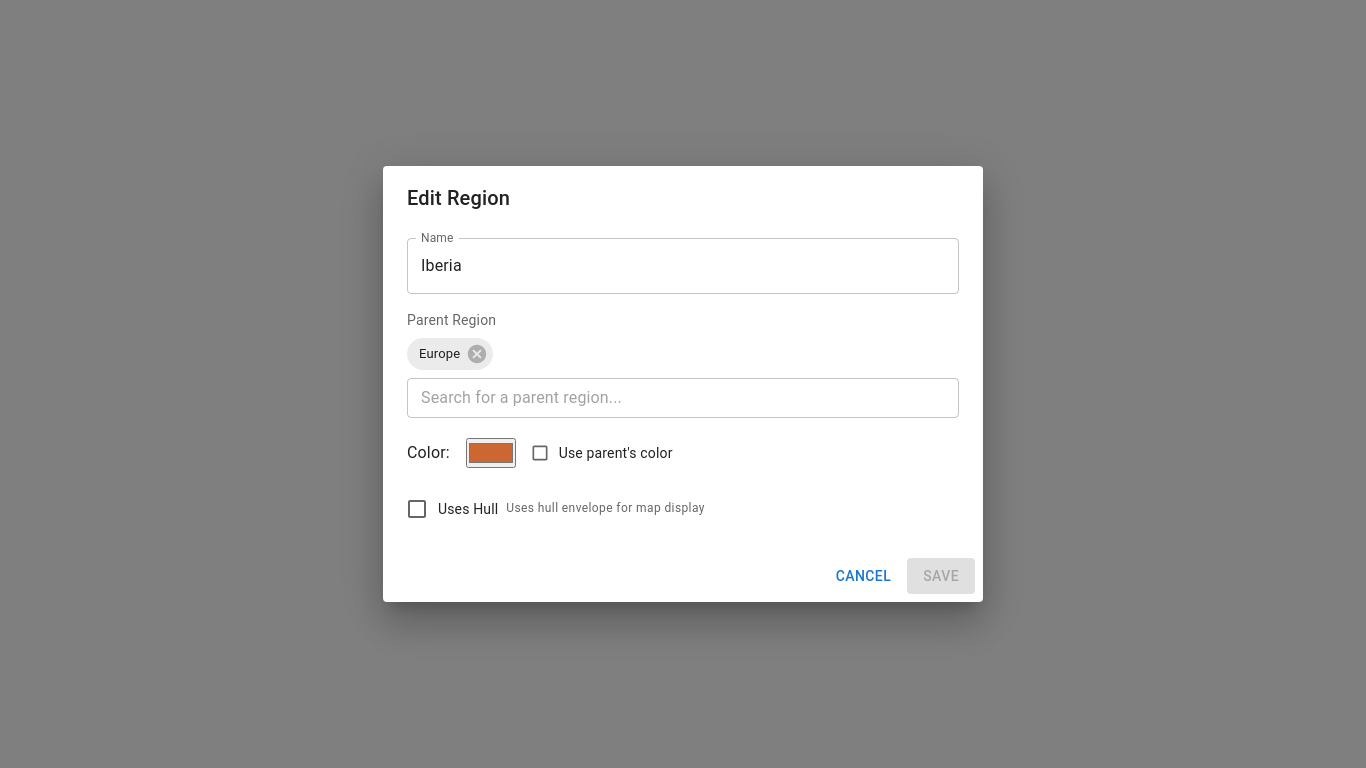
the edit region dialog › shows a refusal that names no field as the form error
Replace the text in the field labelled "Name" with "Iberian Peninsula" at (683, 266), box x1=407 y1=238 x2=959 y2=294
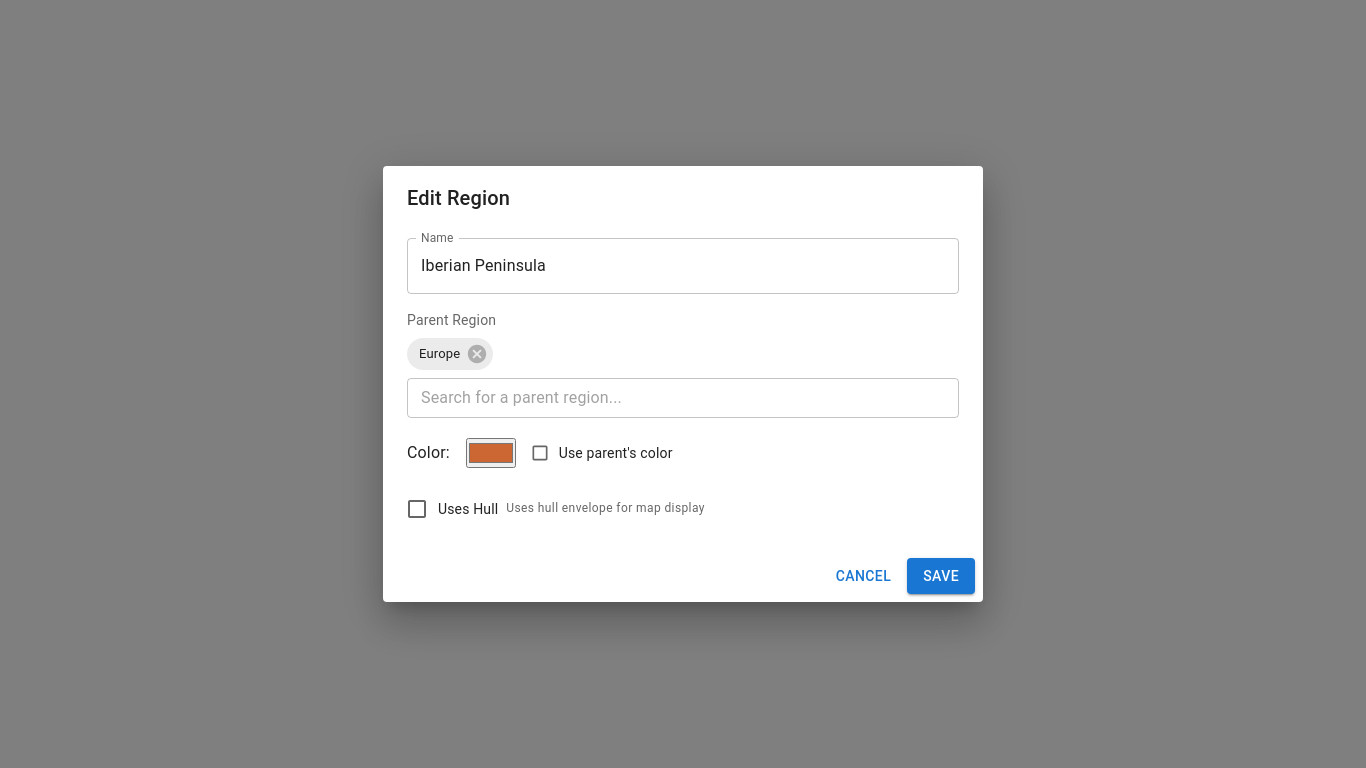
Click the button "Save" at (941, 576), box x1=907 y1=558 x2=975 y2=594
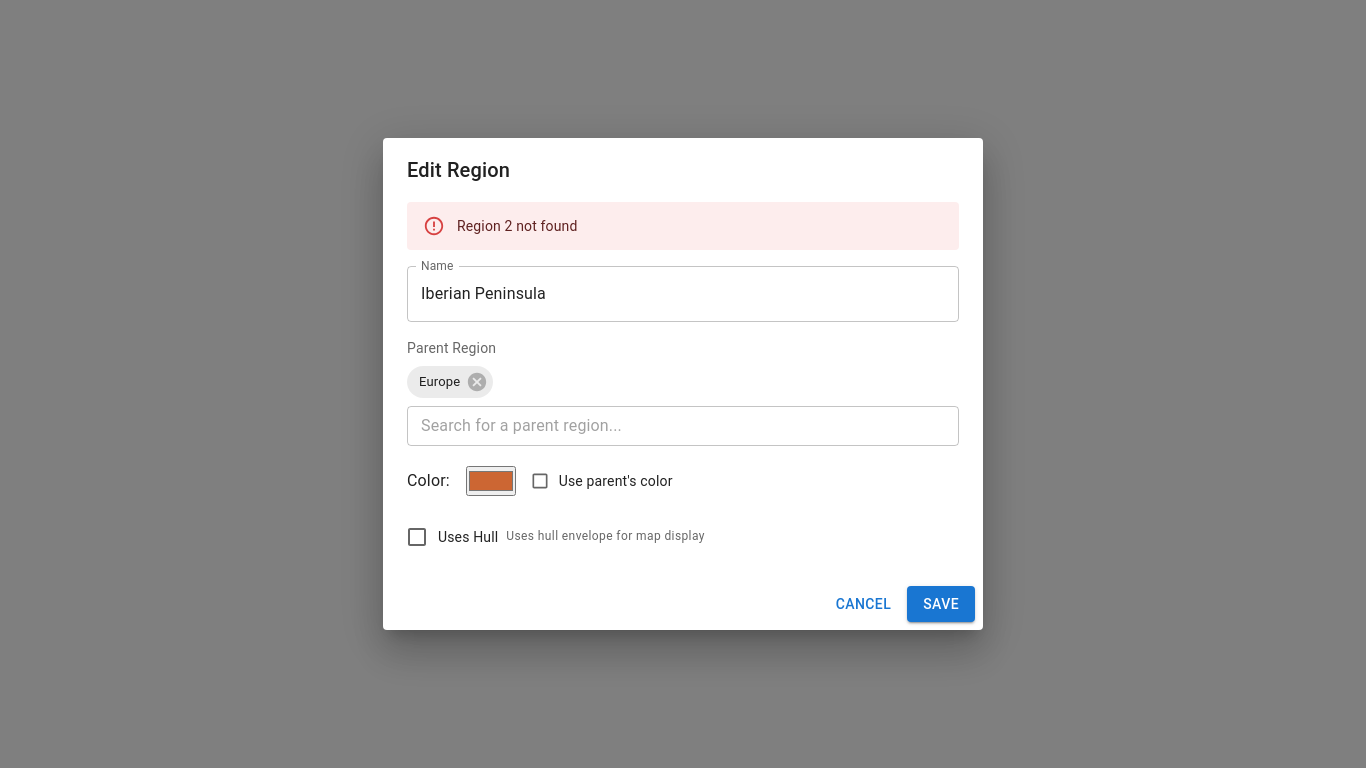
Now the message reads "Region 2 not found", box x1=457 y1=218 x2=578 y2=234
